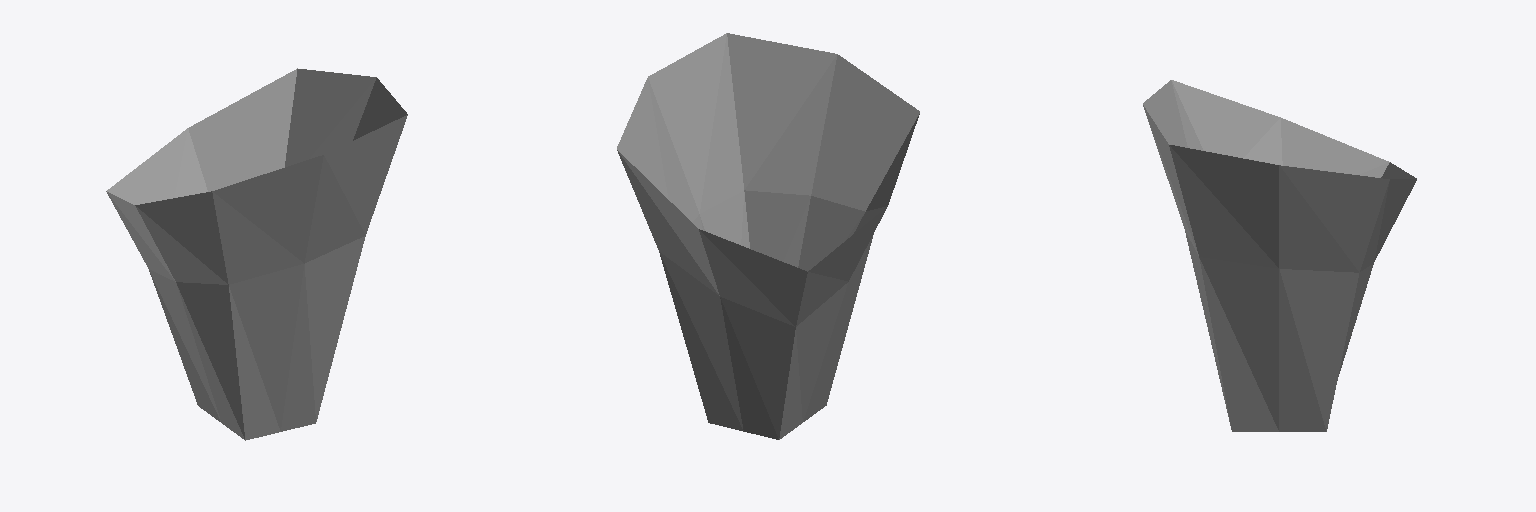
The model's file is underch_dark_tuber.obj.
3 views of the same model, side by side, from view 1: azimuth 30°, elevation 25°; view 2: azimuth 150°, elevation 25°; view 3: azimuth 270°, elevation 25° (orthographic).
Parts seen in each view (by area): view 1: Cube; view 2: Cube; view 3: Cube.
Boxes of the visible parts, <box> form: Cube: <box>106,68,407,440</box>; Cube: <box>617,33,919,439</box>; Cube: <box>1143,80,1416,431</box>.
Bounding box in the file's own units: 0.9284 × 1.17 × 0.9179.